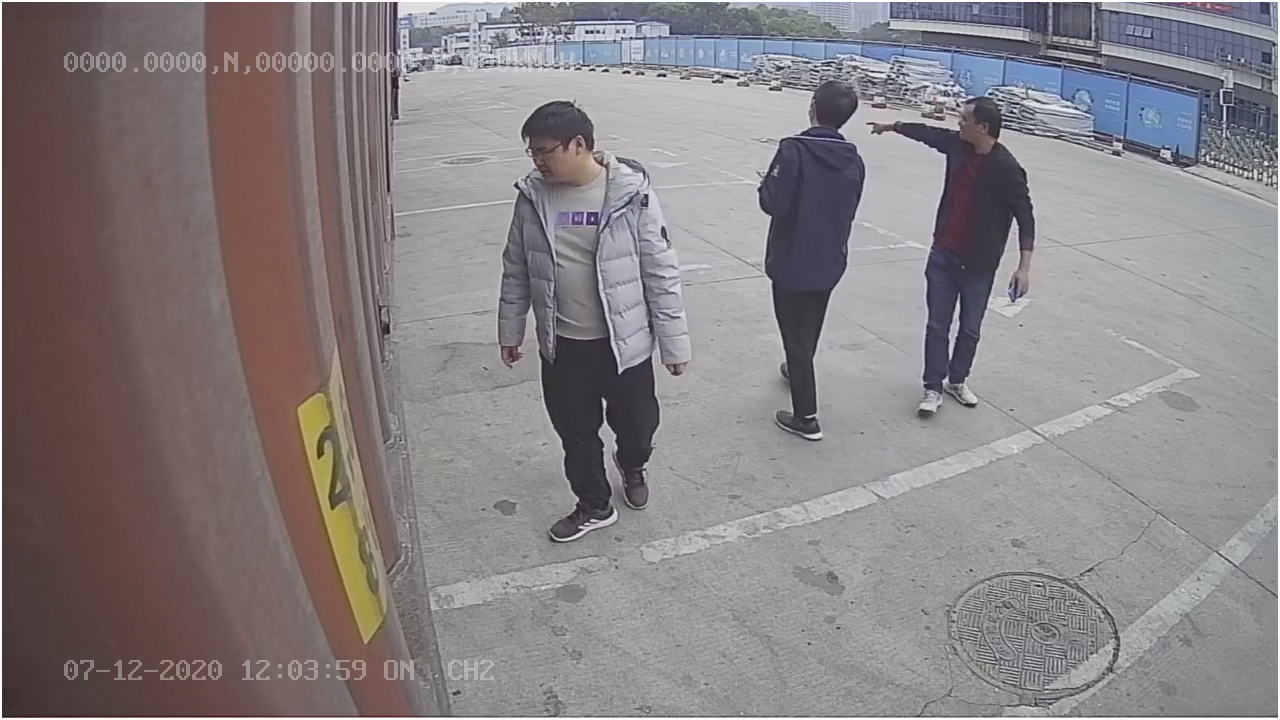person: (490, 99, 697, 541), (753, 66, 870, 443)
